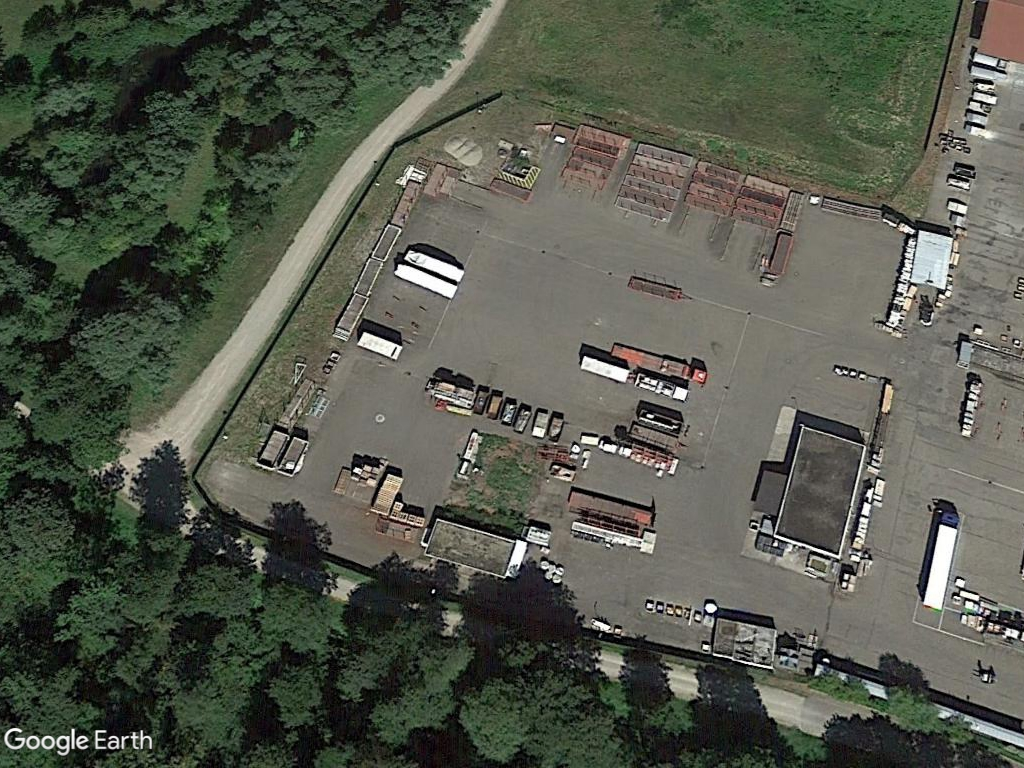longvehicle: (921, 504, 962, 613)
